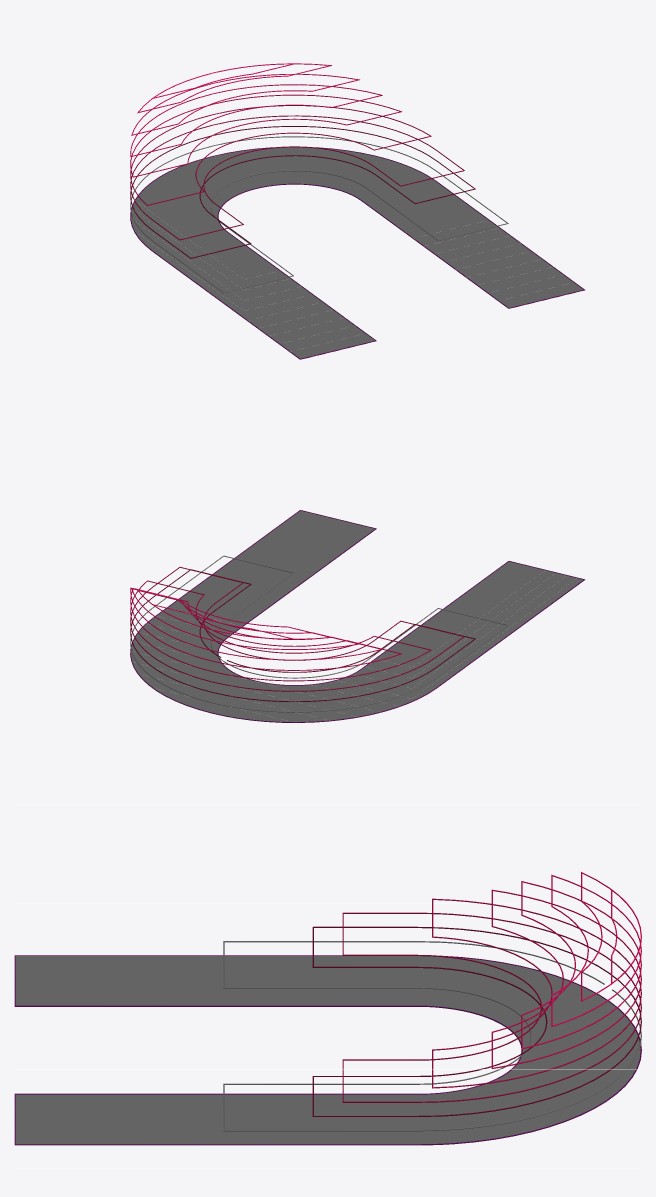
Rendered from engetsu03.glb.
3 renders of one model, top to bottom at view 1: azimuth 30°, elevation 25°; view 2: azimuth 150°, elevation 25°; view 3: azimuth 270°, elevation 25°, orthographic. The views are drawn at different scales.
Parts seen in each view (by area): view 1: 押し出し, スイープ.10, スイープ.11, スイープ.2, スイープ.3, スイープ.4, スイープ.5, スイープ.6, スイープ.7, スイープ.8; view 2: 押し出し, スイープ.10, スイープ.11, スイープ.3, スイープ.2, スイープ.4, スイープ.5, スイープ.6, スイープ.7, スイープ.8; view 3: 押し出し, スイープ.10, スイープ.11, スイープ.2, スイープ.3, スイープ.4, スイープ 8, スイープ 1, スイープ.5, スイープ.6, スイープ.7.
Boxes of the visible parts, x1,y1,x2,y2 form: 押し出し: [131, 147, 583, 358]; スイープ.10: [130, 147, 584, 359]; スイープ.11: [130, 136, 508, 293]; スイープ.2: [130, 126, 475, 258]; スイープ.3: [130, 115, 464, 240]; スイープ.4: [130, 105, 431, 205]; スイープ.5: [130, 94, 401, 177]; スイープ.6: [130, 84, 382, 156]; スイープ.7: [131, 74, 359, 135]; スイープ.8: [137, 63, 331, 113]; 押し出し: [131, 510, 583, 721]; スイープ.10: [130, 510, 585, 722]; スイープ.11: [130, 555, 508, 712]; スイープ.3: [130, 567, 464, 691]; スイープ.2: [130, 569, 475, 702]; スイープ.4: [130, 580, 431, 681]; スイープ.5: [130, 588, 401, 670]; スイープ.6: [130, 587, 382, 660]; スイープ.7: [131, 588, 359, 649]; スイープ.8: [137, 590, 332, 639]; 押し出し: [15, 956, 640, 1144]; スイープ.10: [14, 955, 641, 1145]; スイープ.11: [223, 941, 641, 1131]; スイープ.2: [312, 926, 641, 1116]; スイープ.3: [342, 912, 641, 1102]; スイープ.4: [432, 898, 641, 1088]; スイープ 8: [14, 804, 639, 1069]; スイープ 1: [14, 903, 639, 1168]; スイープ.5: [491, 889, 641, 1068]; スイープ.6: [521, 881, 641, 1049]; スイープ.7: [551, 874, 641, 1027].
Size of the model in its own units: 0.02 by 0.00452 by 0.0201.
